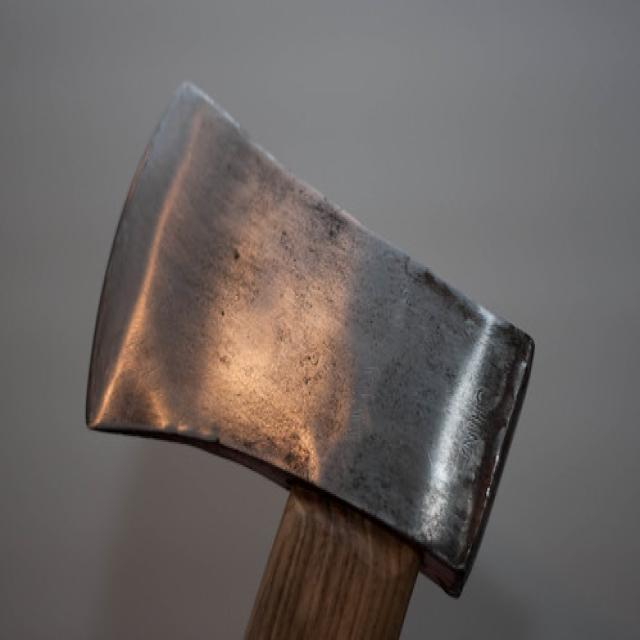Axe: (88, 84, 532, 640)
